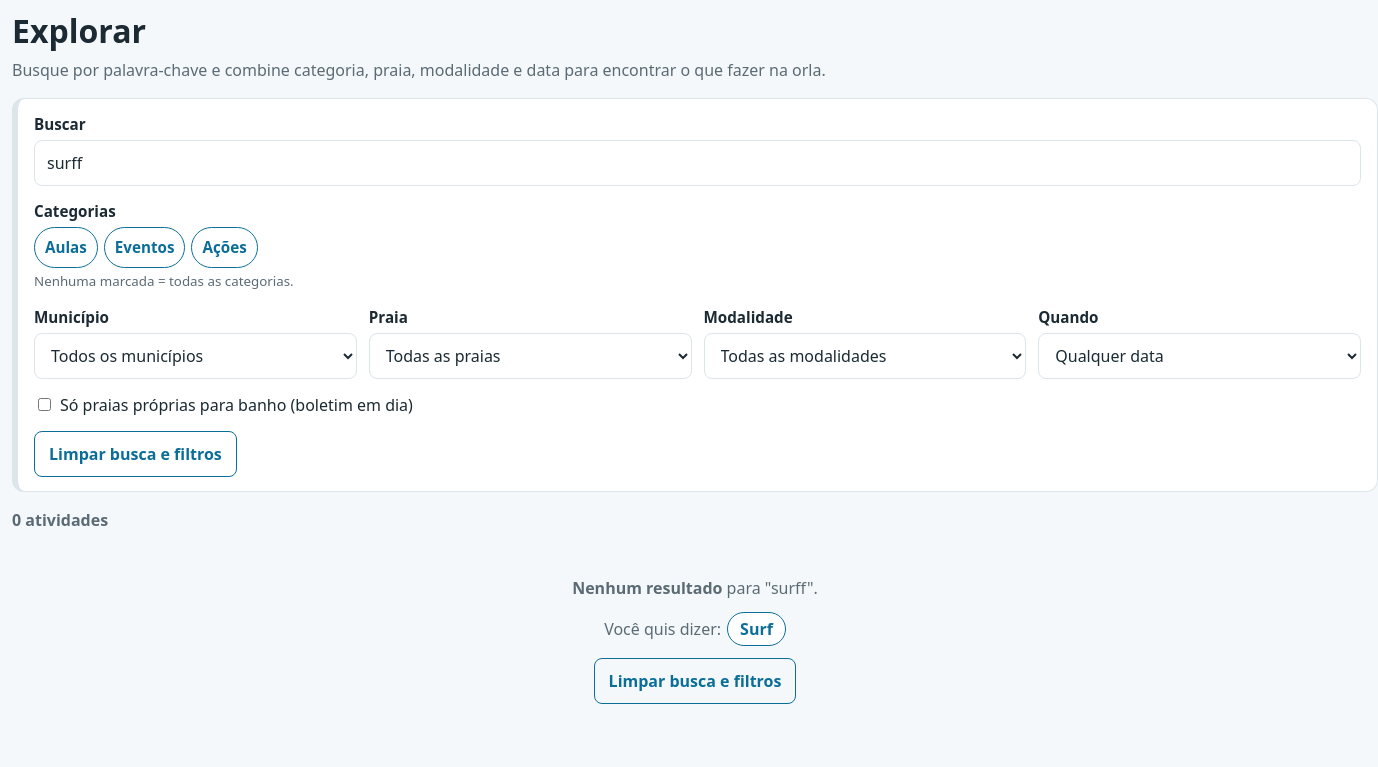
Test: ExplorarPage › "Nenhum resultado" mostra sugestões que refazem a busca
Expected: the text "Nenhum resultado para \"surff\"." is shown, [572,577,818,599]
Click the button "Surf". click: (756, 629)
box: [727,612,786,646]
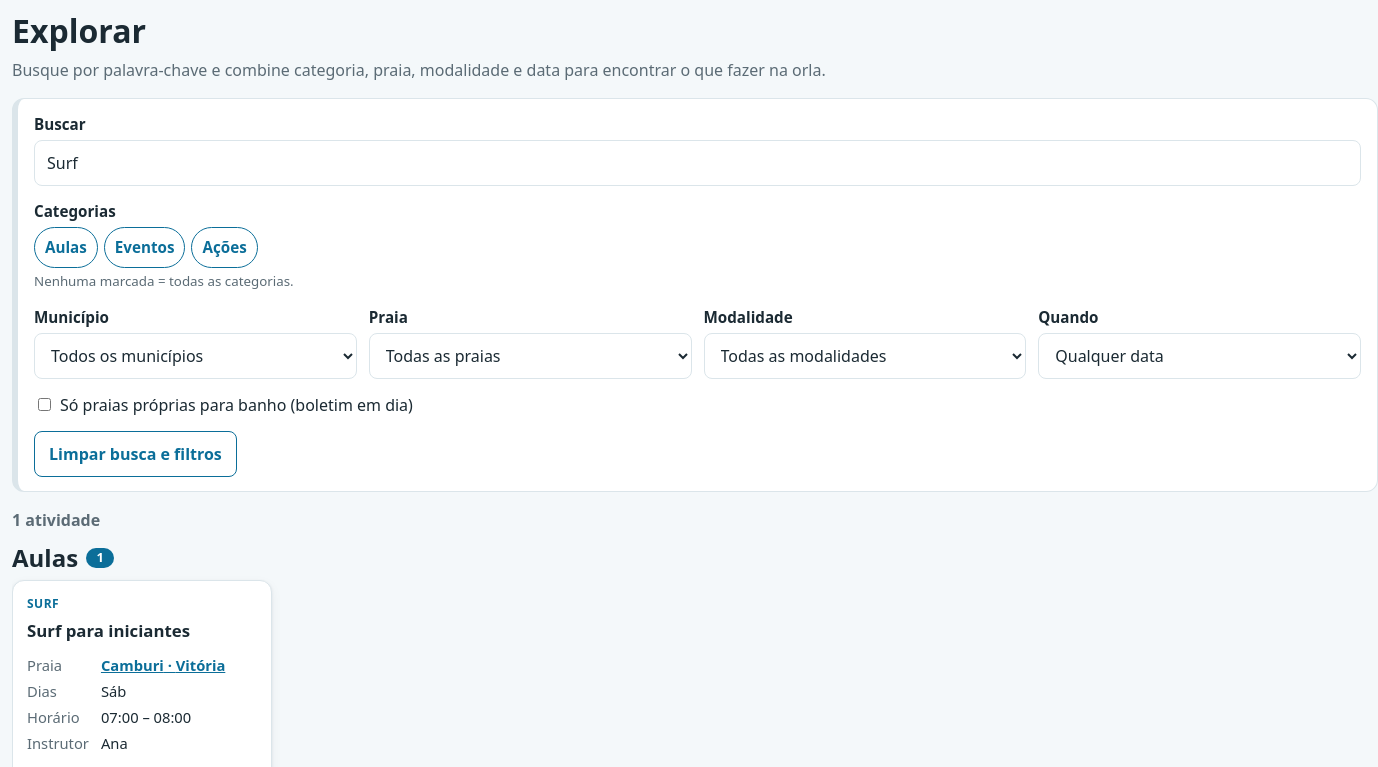
Now the search field labelled "Buscar" holds "Surf", box [34,140,1361,186]
